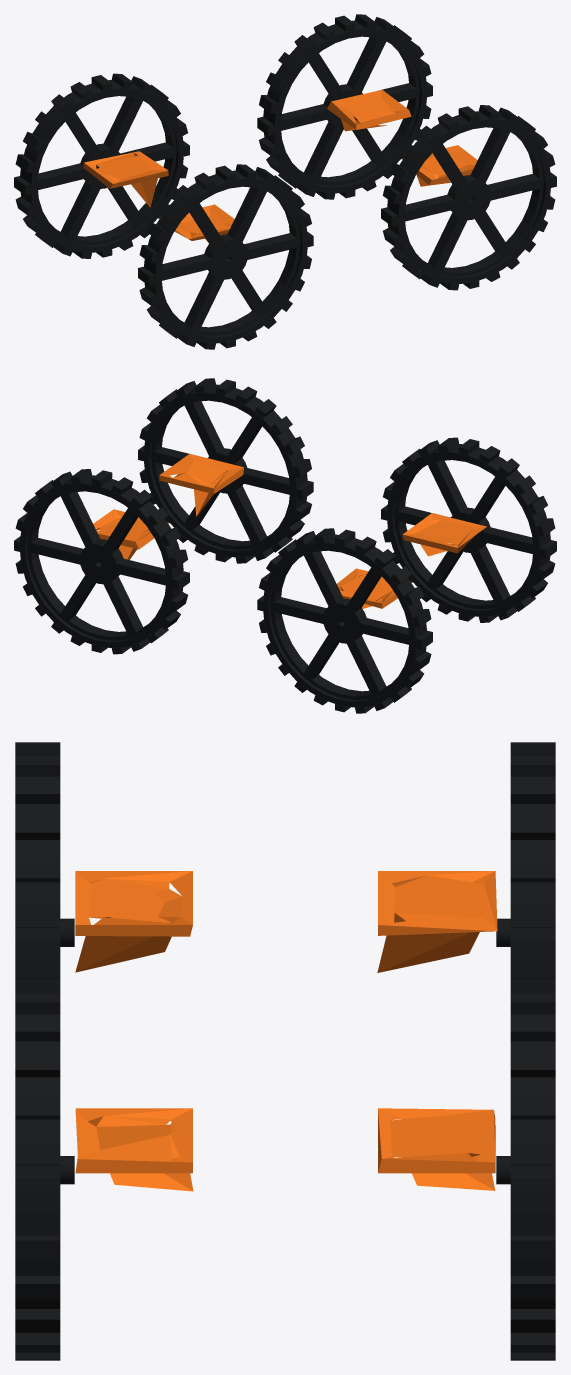
File: offroad_wheels.glb
The picture shows the model from 3 angles, top to bottom: view 1: azimuth 30°, elevation 25°; view 2: azimuth 150°, elevation 25°; view 3: azimuth 270°, elevation 25°; orthographic projection. The views are drawn at different scales.
Visible parts, largest first — view 1: mesh_rubber_and_chip_21_002, mesh_rubber_and_chip_21, tire_tread_visual__23, tire_tread_visual__23_002, tire_tread_visual__23_003, tire_tread_visual__23_001, mesh_rubber_and_chip_21_003, mesh_rubber_and_chip_21_001, print_motor_cap__2, print_motor_cap__4, print_motor_cap__1, print_motor_cap__3; view 2: mesh_rubber_and_chip_21_003, mesh_rubber_and_chip_21_001, tire_tread_visual__23_001, tire_tread_visual__23_003, tire_tread_visual__23_002, tire_tread_visual__23, mesh_rubber_and_chip_21_002, mesh_rubber_and_chip_21, print_motor_cap__1, print_motor_cap__3, print_motor_cap__2, print_motor_cap__4; view 3: tire_tread_visual__23, tire_tread_visual__23_001, tire_tread_visual__23_002, tire_tread_visual__23_003, print_motor_cap__1, print_motor_cap__2, print_motor_cap__3, print_motor_cap__4, print_motor_saddle__4, print_motor_saddle__3, print_motor_saddle__2, print_motor_saddle__1.
Boxes of the visible parts, <box> form: mesh_rubber_and_chip_21_002: <box>160,184,300,335</box>; mesh_rubber_and_chip_21: <box>403,125,543,276</box>; tire_tread_visual__23: <box>381,105,556,290</box>; tire_tread_visual__23_002: <box>138,164,313,349</box>; tire_tread_visual__23_003: <box>14,73,189,258</box>; tire_tread_visual__23_001: <box>257,14,432,199</box>; mesh_rubber_and_chip_21_003: <box>36,94,176,245</box>; mesh_rubber_and_chip_21_001: <box>279,34,419,185</box>; print_motor_cap__2: <box>327,90,411,129</box>; print_motor_cap__4: <box>83,151,168,188</box>; print_motor_cap__1: <box>402,145,477,184</box>; print_motor_cap__3: <box>159,204,234,240</box>; mesh_rubber_and_chip_21_003: <box>270,548,410,699</box>; mesh_rubber_and_chip_21_001: <box>27,489,167,640</box>; tire_tread_visual__23_001: <box>14,469,189,654</box>; tire_tread_visual__23_003: <box>257,528,432,713</box>; tire_tread_visual__23_002: <box>381,437,556,622</box>; tire_tread_visual__23: <box>138,378,313,563</box>; mesh_rubber_and_chip_21_002: <box>394,458,534,609</box>; mesh_rubber_and_chip_21: <box>151,398,291,549</box>; print_motor_cap__1: <box>159,454,243,493</box>; print_motor_cap__3: <box>402,513,486,553</box>; print_motor_cap__2: <box>93,509,168,549</box>; print_motor_cap__4: <box>337,568,411,608</box>; tire_tread_visual__23: <box>15,980,60,1360</box>; tire_tread_visual__23_001: <box>510,980,555,1360</box>; tire_tread_visual__23_002: <box>15,742,60,979</box>; tire_tread_visual__23_003: <box>510,742,555,979</box>; print_motor_cap__1: <box>75,1108,192,1173</box>; print_motor_cap__2: <box>378,1108,495,1173</box>; print_motor_cap__3: <box>75,871,192,936</box>; print_motor_cap__4: <box>378,871,497,935</box>; print_motor_saddle__4: <box>377,932,479,972</box>; print_motor_saddle__3: <box>75,936,171,972</box>; print_motor_saddle__2: <box>412,1155,495,1190</box>; print_motor_saddle__1: <box>110,1157,193,1191</box>.
Size of the model in its own units: 2.18 by 0.88 by 1.25.
